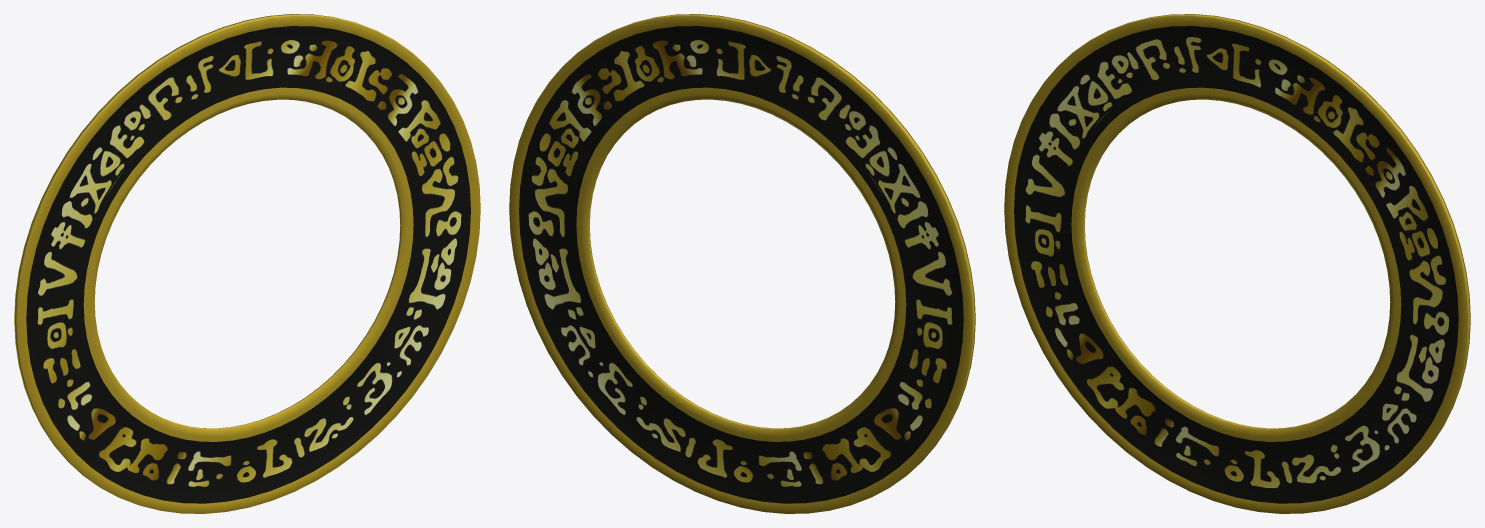
The model's file is random_effect.glb.
The picture shows the model from 3 angles, left to right: view 1: azimuth 30°, elevation 25°; view 2: azimuth 150°, elevation 25°; view 3: azimuth 330°, elevation 25°; orthographic projection.
Visible parts, largest first — view 1: Dark Magician Ring_02 - Default_0, Dark Magician Ring_03 - Default_0; view 2: Dark Magician Ring_02 - Default_0, Dark Magician Ring_03 - Default_0; view 3: Dark Magician Ring_02 - Default_0, Dark Magician Ring_03 - Default_0.
Boxes of the visible parts, <box> form: Dark Magician Ring_02 - Default_0: <box>26,26,470,503</box>; Dark Magician Ring_03 - Default_0: <box>14,14,480,513</box>; Dark Magician Ring_02 - Default_0: <box>519,26,963,503</box>; Dark Magician Ring_03 - Default_0: <box>509,14,975,513</box>; Dark Magician Ring_02 - Default_0: <box>1014,26,1458,503</box>; Dark Magician Ring_03 - Default_0: <box>1004,14,1470,513</box>.
Bounding box in the file's own units: 993 × 993 × 15.25.
2 materials, 2 textured.
